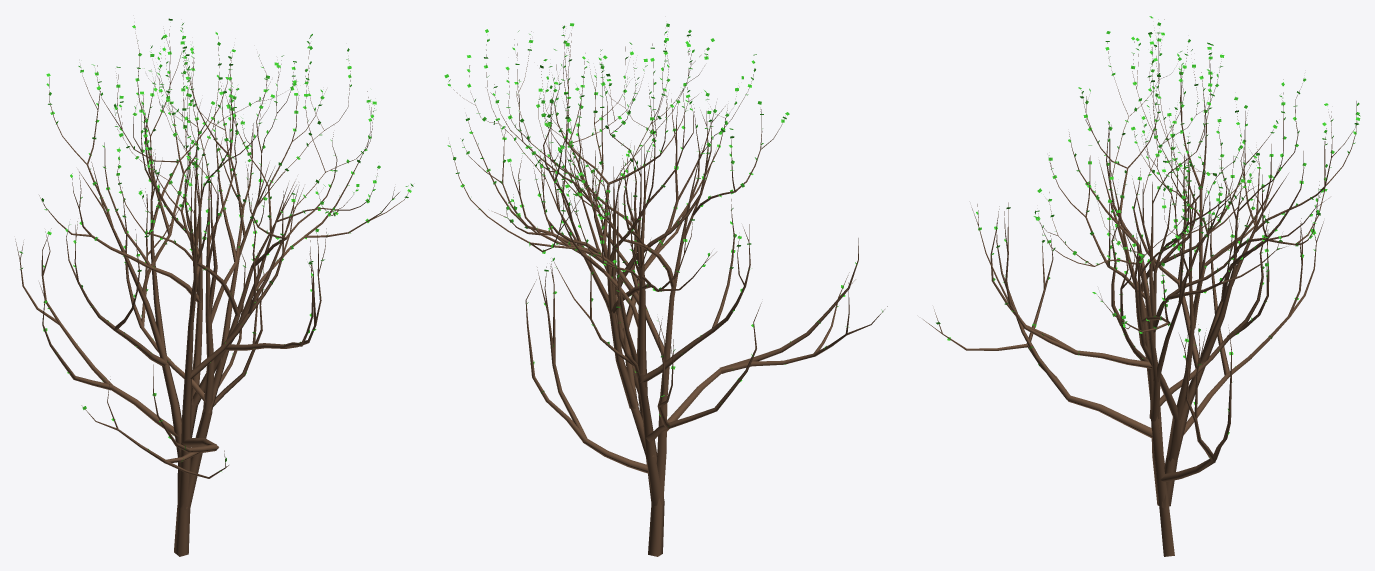
The model's file is largetree.fbx.
3 views of the same model, side by side, from view 1: azimuth 30°, elevation 25°; view 2: azimuth 150°, elevation 25°; view 3: azimuth 270°, elevation 25° (orthographic). The views are drawn at different scales.
Visible parts, largest first — view 1: tree, leaves; view 2: tree, leaves; view 3: tree, leaves.
Part boxes in pixels (left/top/right/bottom): tree: left=15, top=25, right=411, bottom=556; leaves: left=19, top=18, right=413, bottom=471; tree: left=449, top=31, right=887, bottom=556; leaves: left=444, top=23, right=882, bottom=426; tree: left=923, top=19, right=1357, bottom=556; leaves: left=936, top=16, right=1360, bottom=438.
Bounding box in the file's own units: 1720 × 2266 × 1722.
